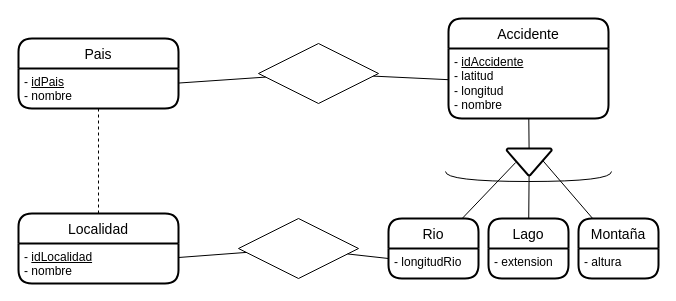
The diagram is 676 pixels wide and 301 high, and some of its shapes have lost their labels. The centre of each missing label's shape, as x and y in pixels:
Pasa: the point at 298,248
Sucede: the point at 318,73
